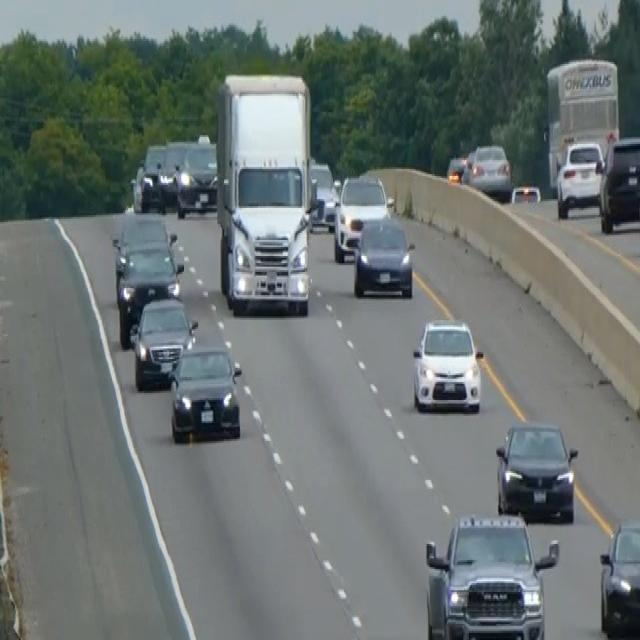car: (494, 418, 578, 522), (115, 238, 184, 348), (168, 341, 242, 443), (411, 316, 484, 414), (129, 292, 198, 389), (351, 213, 415, 299), (111, 208, 177, 288), (332, 172, 390, 262), (598, 518, 639, 638), (597, 133, 639, 233), (555, 137, 604, 219), (175, 133, 218, 217), (462, 141, 512, 199), (157, 138, 189, 202), (309, 160, 337, 229), (133, 164, 166, 212), (445, 151, 468, 185), (510, 182, 541, 204)
jeep: (423, 508, 559, 638)
lorry: (214, 70, 314, 316)
